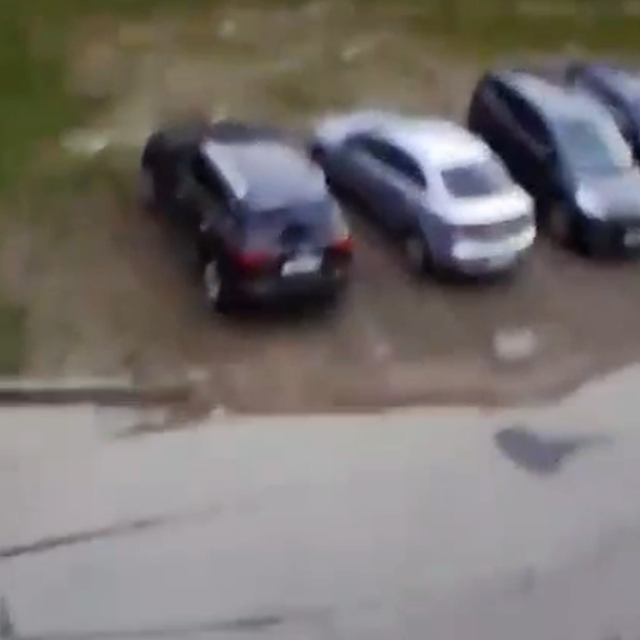car: (140, 119, 357, 316), (308, 105, 537, 276), (464, 68, 640, 254)
